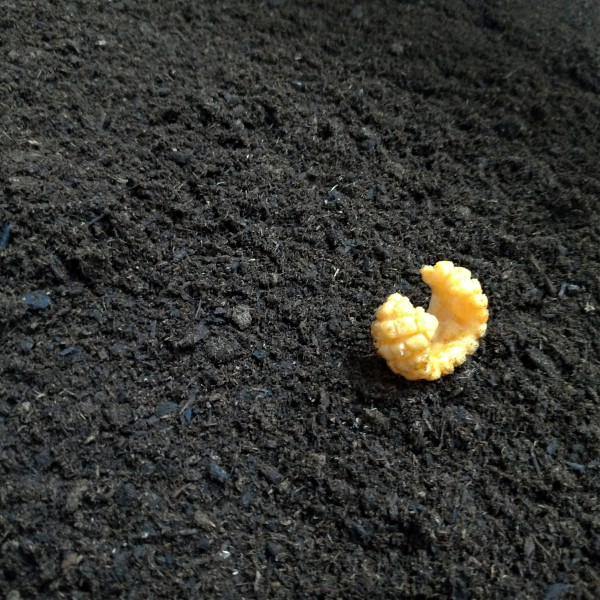eggs: (364, 258, 493, 385)
